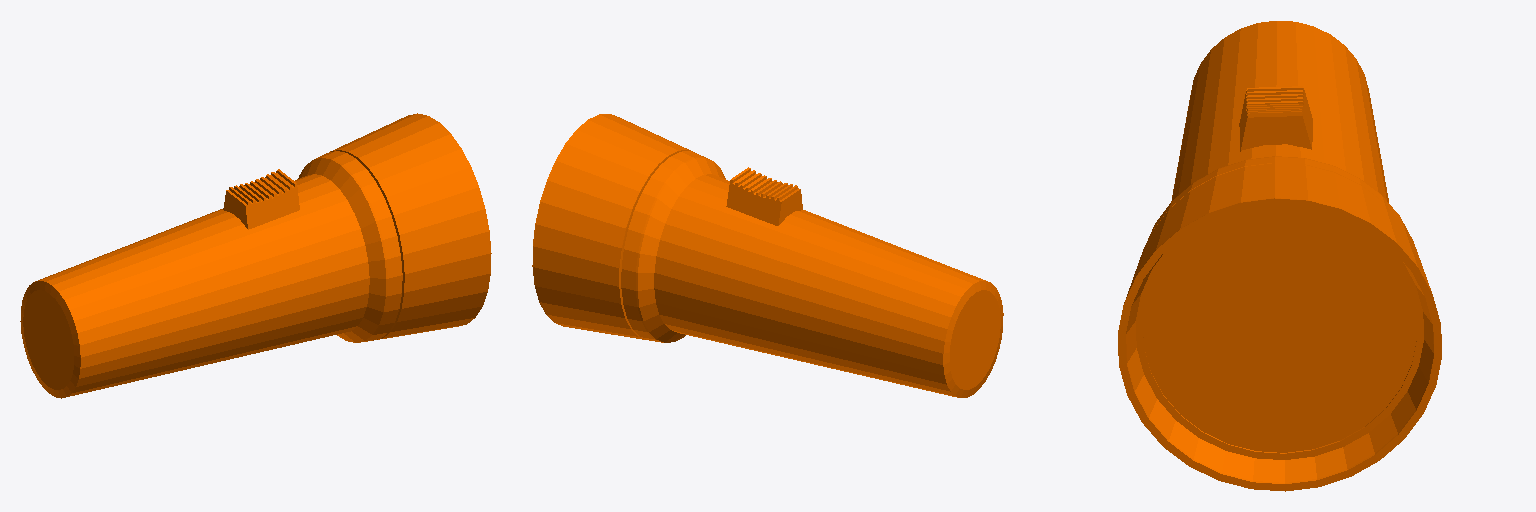
The robot description file, URDF, robot "80_20.urdf":
<?xml version="0.0" ?>
<robot name="80_20.urdf">
  <link name="baseLink">

    <inertial>
      <origin rpy="0 0 0" xyz="0 0 0"/>
       <mass value=".0"/>
       <inertia ixx="1" ixy="0" ixz="0" iyy="1" iyz="0" izz="1"/>
    </inertial>
	<visual>
    <origin rpy="1.5708 0.05 0" xyz="-0.025 0 -0.01"/>
    <geometry>
       <mesh filename="../meshes/flashlight.obj" scale="0.003 0.005 0.005" />
    </geometry>
	  <material name="orange">
      <color rgba="1 0.49 0 1" />
    </material>
  </visual>
</link>
</robot>

--- What the picture shows (computed from the rendered views, not written in the file) ---
Views: 3 orthographic renders of the robot side by side, from view 1: azimuth 30°, elevation 25°; view 2: azimuth 150°, elevation 25°; view 3: azimuth 270°, elevation 25°.
Robot: 80_20.urdf — 1 links, 0 joints (none); root link baseLink; default pose: all joints at 0.
Links seen in each view (by area): view 1: baseLink; view 2: baseLink; view 3: baseLink.
Boxes of the visible links, bbox=[...] form: baseLink: bbox=[20, 113, 491, 398]; baseLink: bbox=[532, 114, 1003, 397]; baseLink: bbox=[1118, 21, 1441, 491].
Bounding box of the posed robot: 0.0627 × 0.0304 × 0.0304 m (x, y, z).
Meshes: 1 distinct files referenced, 1 mesh visuals loaded (1 OBJ).